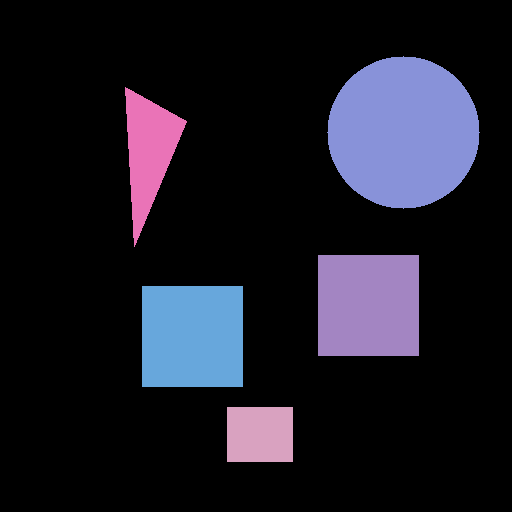circle: (327, 56, 479, 208)
rectangle: (227, 407, 292, 461)
square: (142, 286, 242, 386), (318, 255, 418, 355)
triangle: (125, 87, 186, 246)
